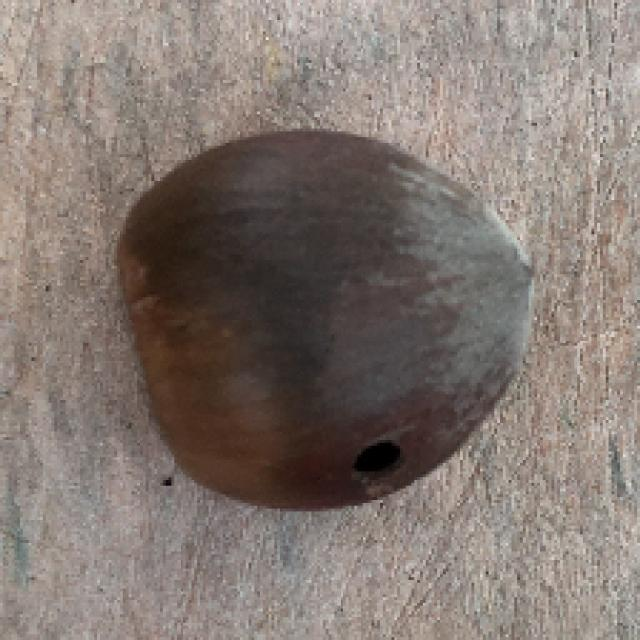damagedHazelnut: (110, 124, 537, 512)
